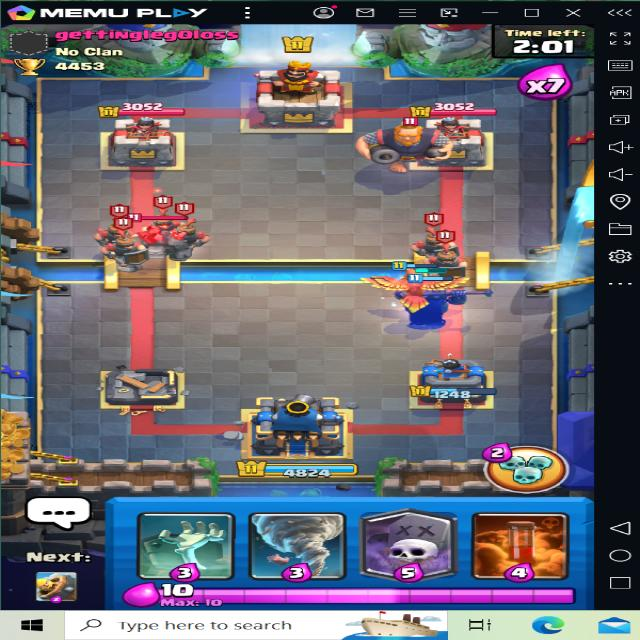golem: (114, 207, 212, 267)
royal-giant: (352, 114, 455, 168)
royal-recruits: (162, 206, 223, 260), (140, 192, 194, 248), (418, 228, 470, 276), (410, 212, 458, 262), (101, 224, 152, 268), (92, 202, 137, 250)
